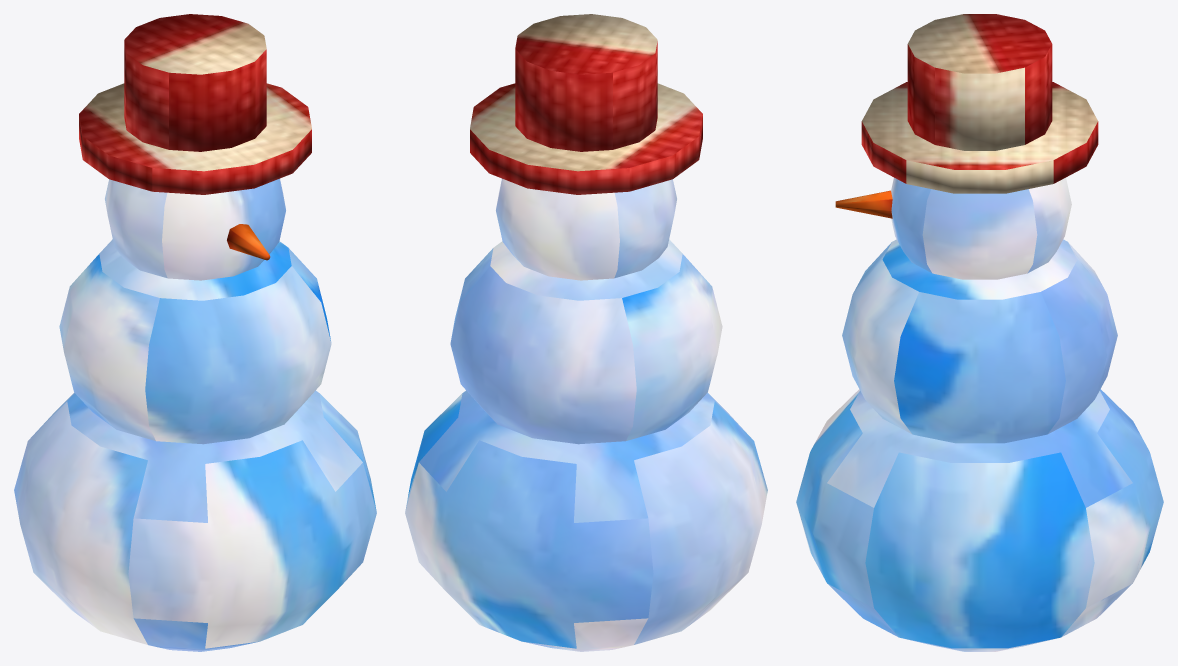
File: deco_hielo_flora.glb
3 views of the same model, side by side, from view 1: azimuth 30°, elevation 25°; view 2: azimuth 150°, elevation 25°; view 3: azimuth 270°, elevation 25° (orthographic).
Parts seen in each view (by area): view 1: deco_hielo_flora; view 2: deco_hielo_flora; view 3: deco_hielo_flora.
Boxes of the visible parts, x1,y1,x2,y2 form: deco_hielo_flora: (14, 14, 376, 651); deco_hielo_flora: (405, 14, 767, 651); deco_hielo_flora: (796, 14, 1163, 651).
Bounding box in the file's own units: 0.5515 × 1 × 0.5657.
Materials: 3 (3 with a texture image).
